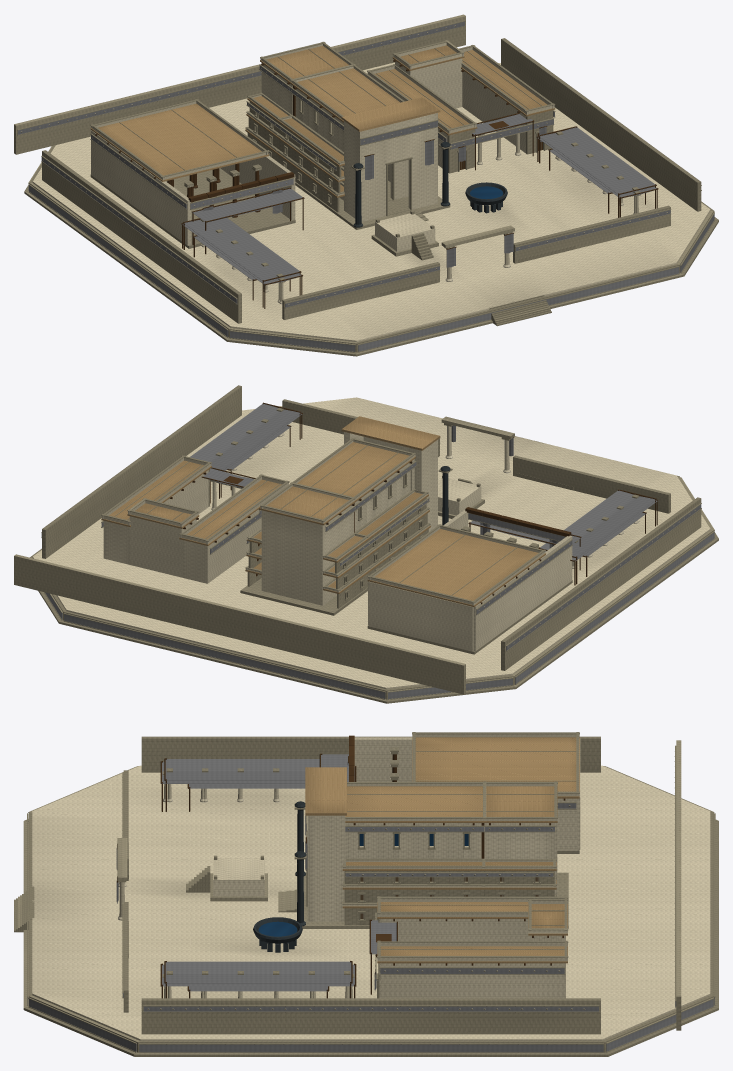
The model's file is solomons_temple-5c603d70.glb.
3 views of the same model, one above another, from view 1: azimuth 30°, elevation 25°; view 2: azimuth 150°, elevation 25°; view 3: azimuth 270°, elevation 25° (orthographic). The views are drawn at different scales.
Visible parts, largest first — view 1: LOD0, LOD0.002, LOD0.001; view 2: LOD0.002, LOD0, LOD0.001; view 3: LOD0, LOD0.002, LOD0.001.
Part boxes in pixels (x1,y1,x2,y2): LOD0: [24, 62, 718, 356]; LOD0.002: [14, 14, 701, 323]; LOD0.001: [181, 41, 671, 319]; LOD0.002: [14, 385, 701, 694]; LOD0: [30, 397, 718, 703]; LOD0.001: [219, 399, 670, 615]; LOD0: [14, 765, 718, 1056]; LOD0.002: [141, 732, 681, 1034]; LOD0.001: [116, 761, 568, 1012].
Size of what is drawn, in the model's own units: 8.53 by 1.79 by 9.06.
Materials: 2 (2 with a texture image).
